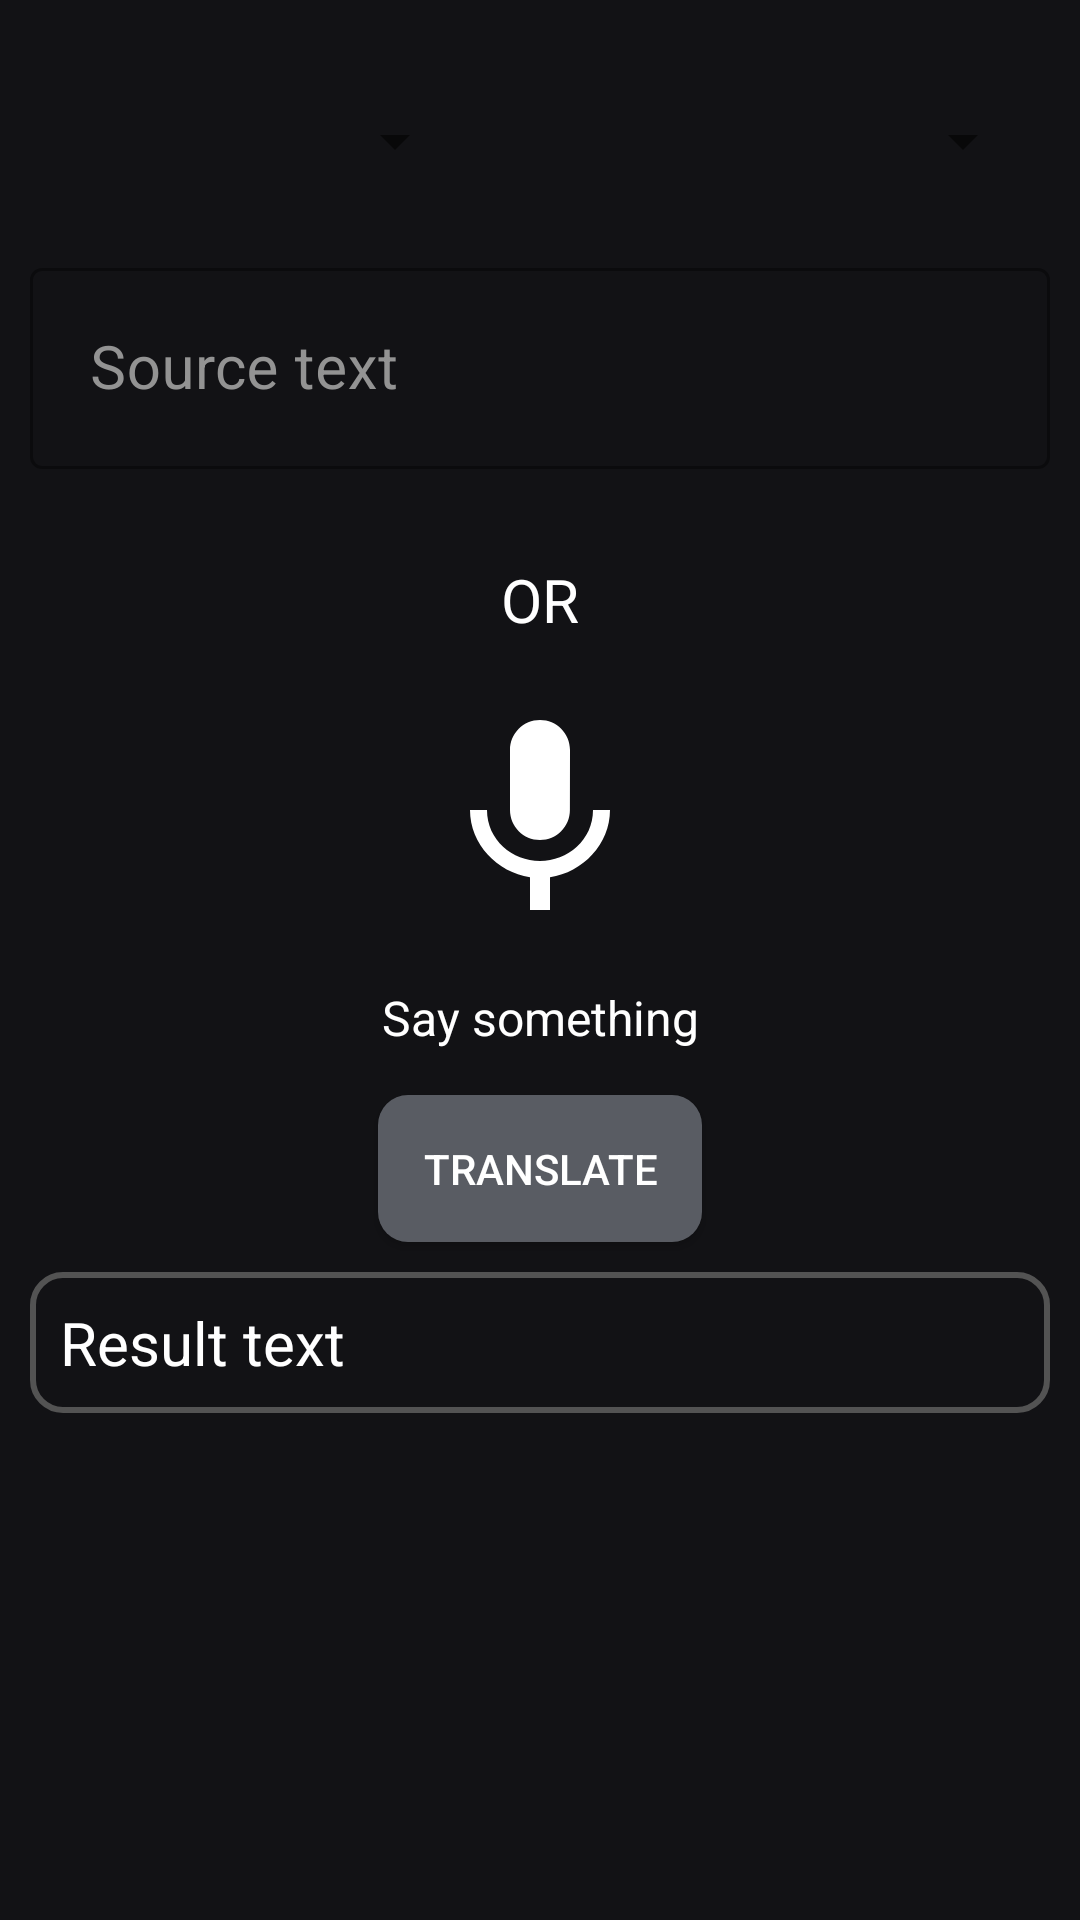

Named icons in this screenshot (1080w x 1920h) and their bounding boxes, (x1, y1, x2, y2):
mic: (470, 720, 610, 910)
